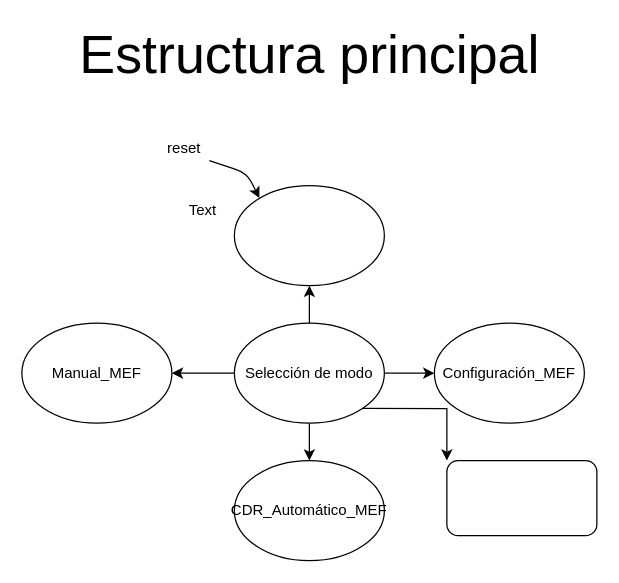
This 619x583 diagram has some shape labels left out. The shapes that lost their labels are listed below. From the top down, each one's centre as x and y in pixels, then its label:
At pixel 308 235: "inicialización setup".
At pixel 521 497: "Información".
